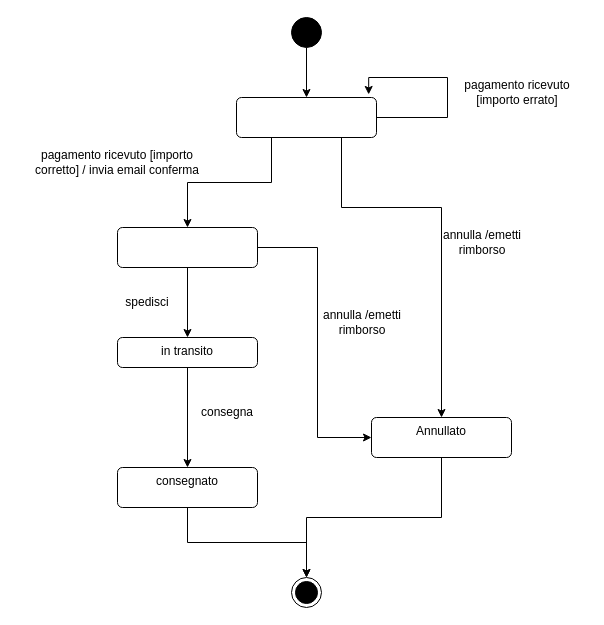
This 604x625 diagram has some shape labels left out. The centre of each missing label's shape, as x and y in pixels:
"In attesa di pagamento" belongs at (306,117).
"In preparazione" belongs at (187,247).
